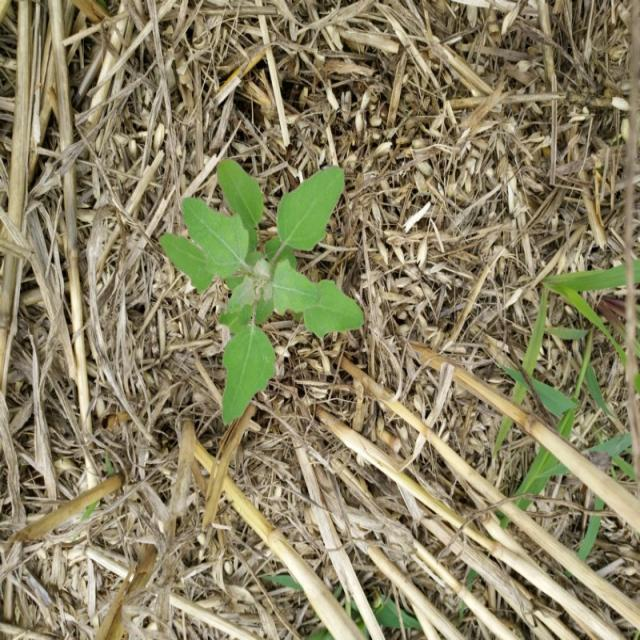ca: (159, 151, 363, 423)
